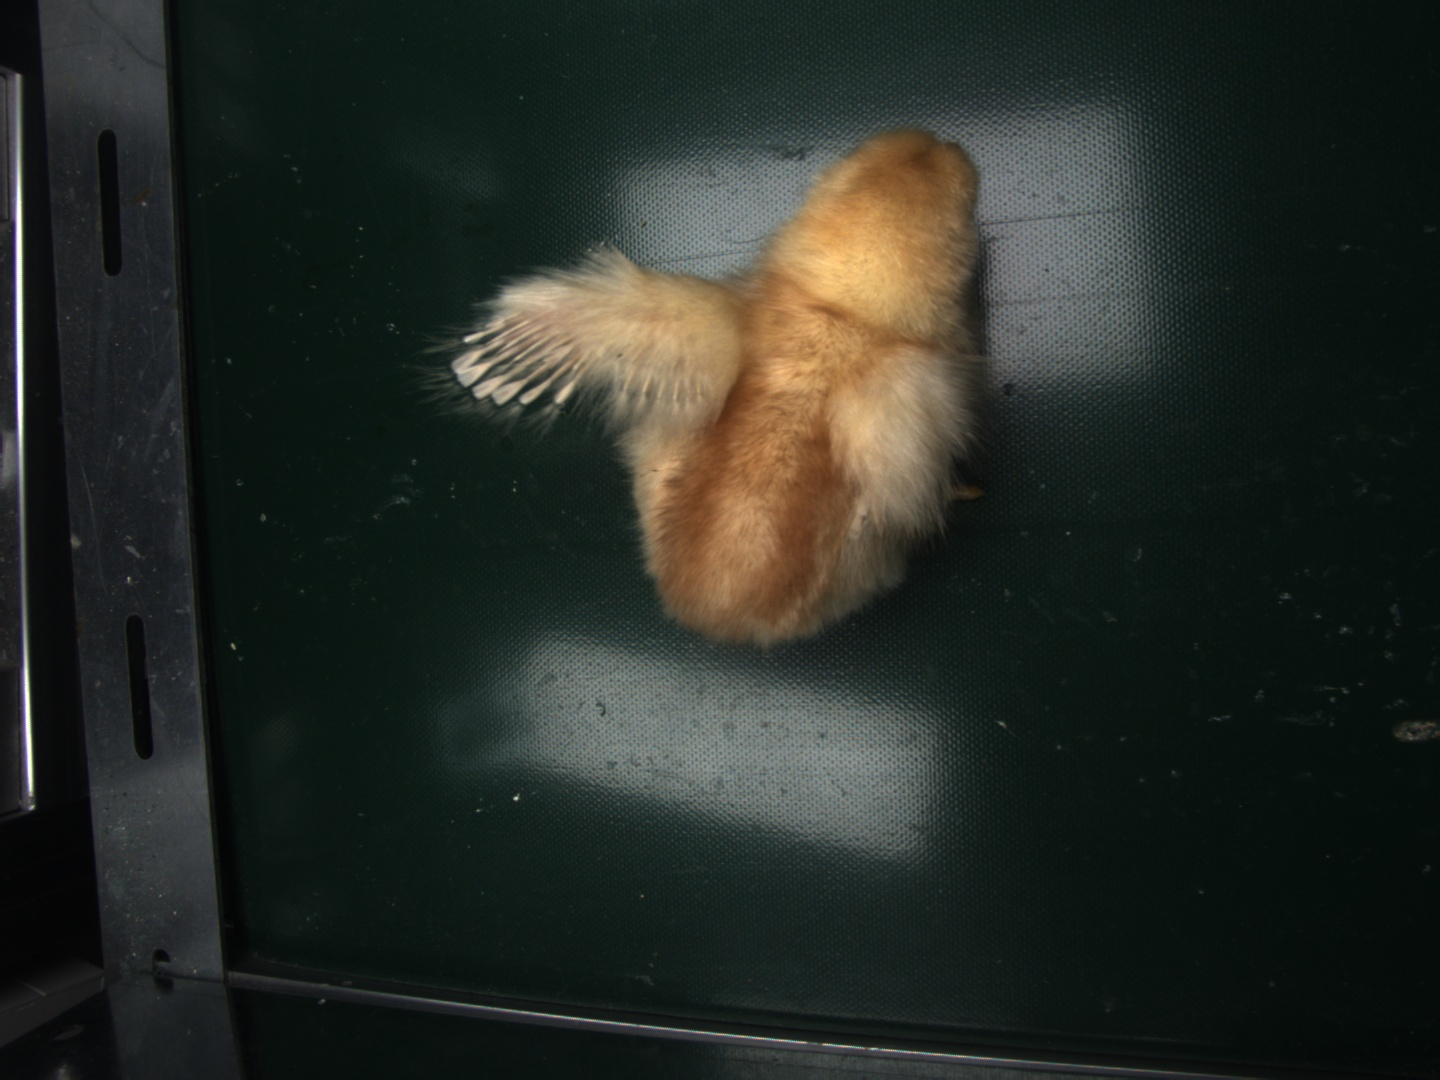female: (455, 310, 581, 407)
